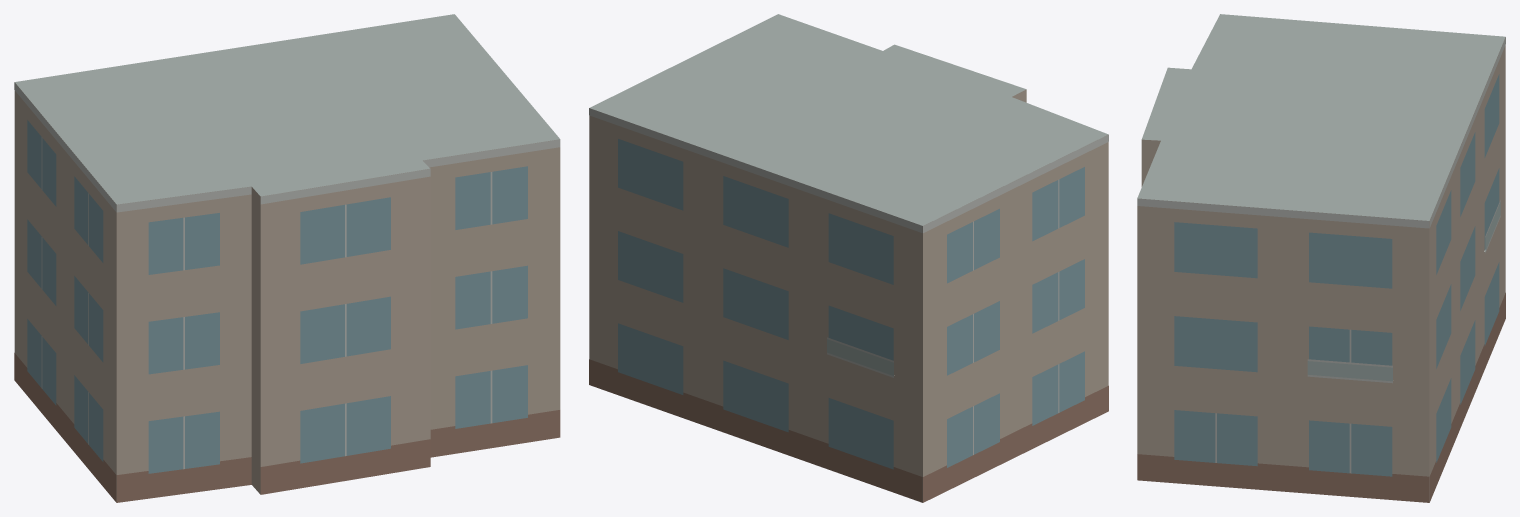
Rendered from survey-upis-32702663.glb.
3 views of the same model, side by side, from view 1: azimuth 30°, elevation 25°; view 2: azimuth 150°, elevation 25°; view 3: azimuth 270°, elevation 25° (orthographic). The views are drawn at different scales.
Visible parts, largest first — view 1: survey-upis-32702663.tmp; view 2: survey-upis-32702663.tmp; view 3: survey-upis-32702663.tmp.
Part boxes in pixels (x1=…): survey-upis-32702663.tmp: x1=14, y1=14, x2=560, y2=502; survey-upis-32702663.tmp: x1=589, y1=14, x2=1108, y2=502; survey-upis-32702663.tmp: x1=1137, y1=14, x2=1505, y2=502.
Size of the model in its own units: 14.42 by 9.15 by 10.85.
